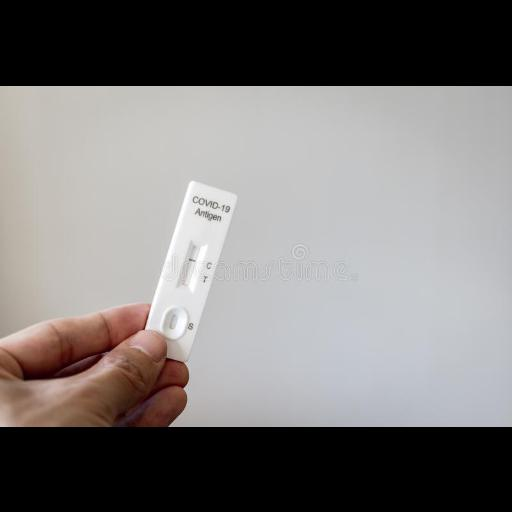Neg: (139, 180, 241, 364)
